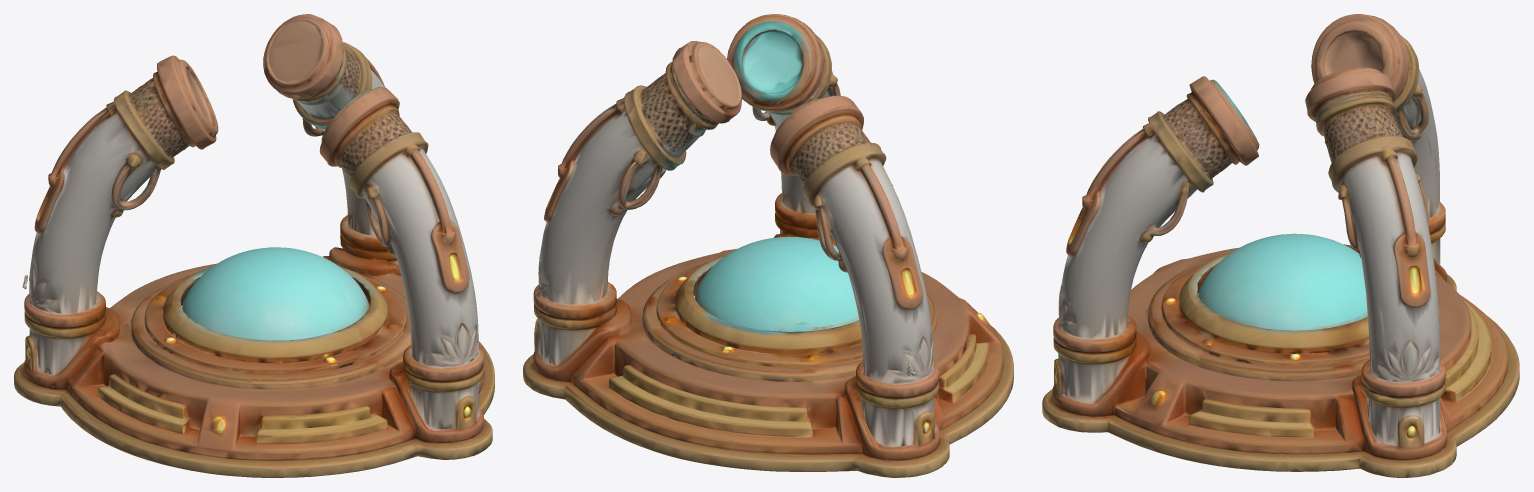
Rendered from huxley_projector.glb.
3 views of the same model, side by side, from view 1: azimuth 30°, elevation 25°; view 2: azimuth 150°, elevation 25°; view 3: azimuth 270°, elevation 25° (orthographic). The views are drawn at different scales.
Visible parts, largest first — view 1: node_0; view 2: node_0; view 3: node_0.
Part boxes in pixels (x1=…): node_0: x1=14, y1=14, x2=494, y2=477; node_0: x1=523, y1=14, x2=1013, y2=477; node_0: x1=1042, y1=14, x2=1519, y2=477.
Size of the model in its own units: 0.8633 by 0.6752 by 0.8566.
Materials: 1 (1 with a texture image).
